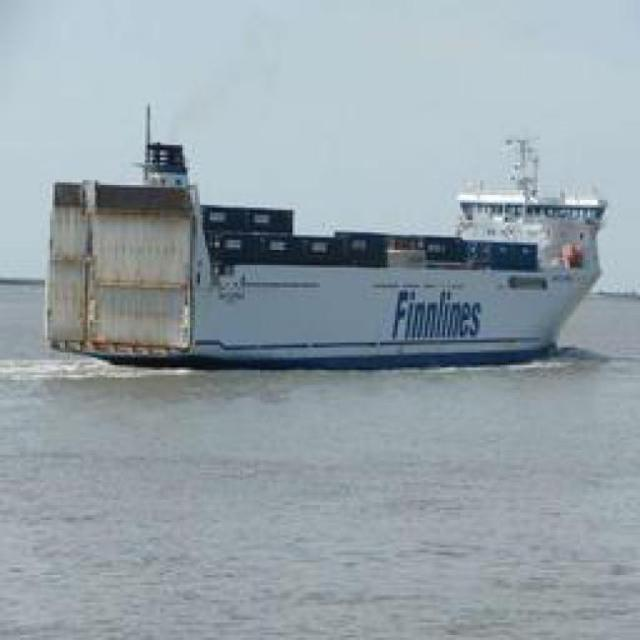boat: (38, 161, 626, 372)
